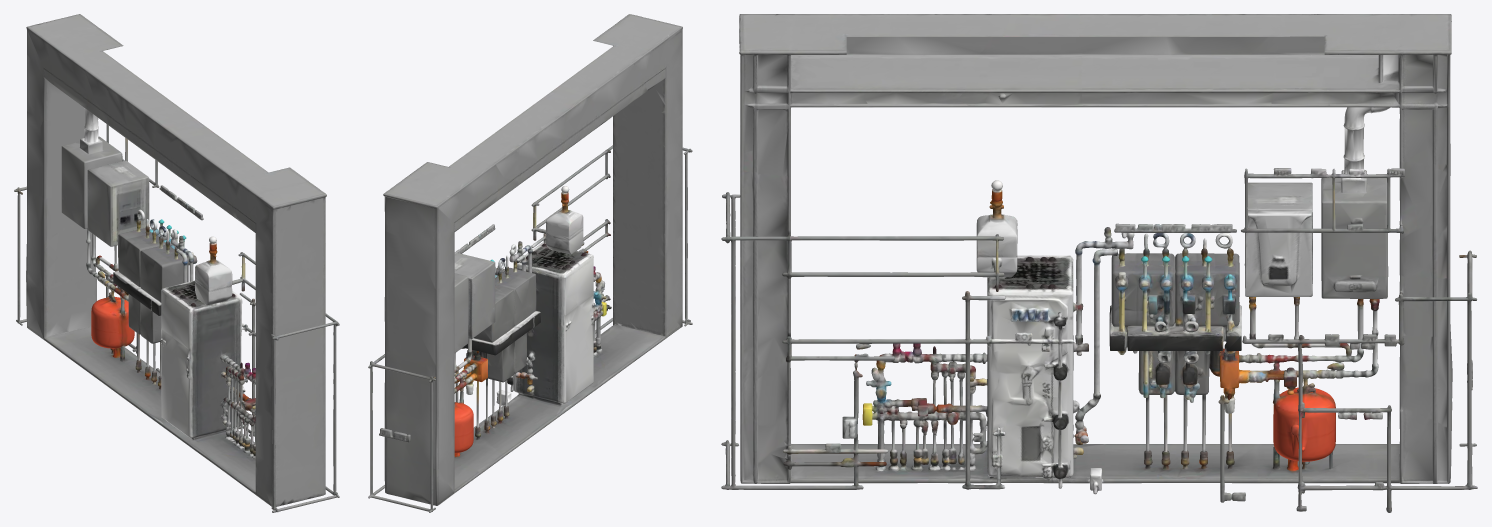
Rendered from chaudiere.glb.
3 renders of one model, left to right at view 1: azimuth 30°, elevation 25°; view 2: azimuth 150°, elevation 25°; view 3: azimuth 270°, elevation 25°, orthographic. The views are drawn at different scales.
Parts seen in each view (by area): view 1: aiprintgen_node_7106dff8-9c2b-4263-b86c-b8dabce84180; view 2: aiprintgen_node_7106dff8-9c2b-4263-b86c-b8dabce84180; view 3: aiprintgen_node_7106dff8-9c2b-4263-b86c-b8dabce84180.
Part boxes in pixels (x1,y1,x2,y2): aiprintgen_node_7106dff8-9c2b-4263-b86c-b8dabce84180: [14, 14, 339, 512]; aiprintgen_node_7106dff8-9c2b-4263-b86c-b8dabce84180: [368, 14, 692, 512]; aiprintgen_node_7106dff8-9c2b-4263-b86c-b8dabce84180: [721, 14, 1477, 512].
Size of the model in its own units: 0.1522 by 0.6673 by 0.9999.
1 material, 1 textured.
